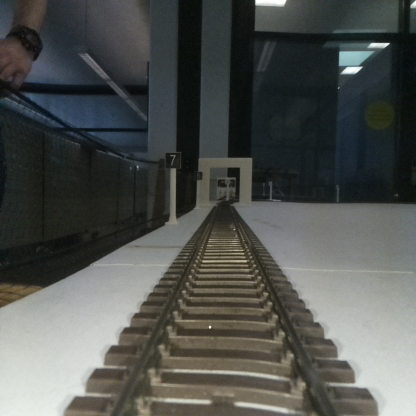black-info-6: (194, 170, 202, 208)
black-info-7: (166, 151, 180, 223)
